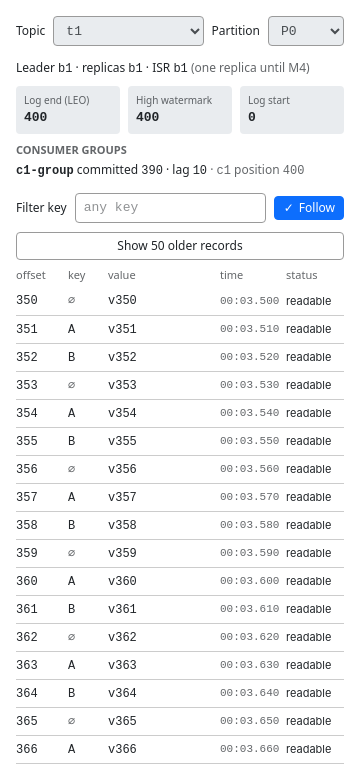
it: <PartitionLog> › long logs: the newest page, then "Show older"; offsets beyond the snapshot are named
This screenshot has width=361, height=767.
Click the button "Show 50 older records" at (180, 246), box [16,232,344,260]
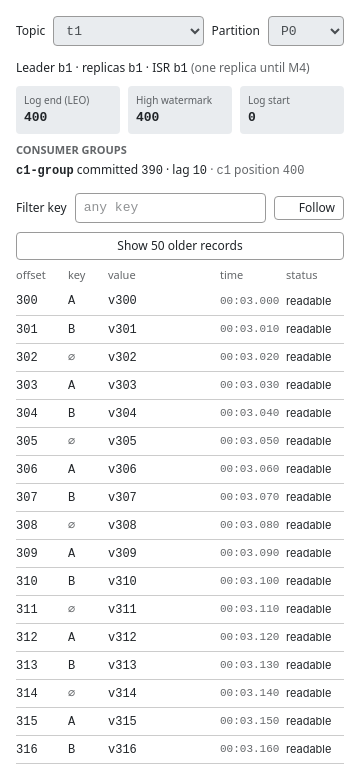
Click the button "Show 50 older records" at (180, 246), box [16,232,344,260]
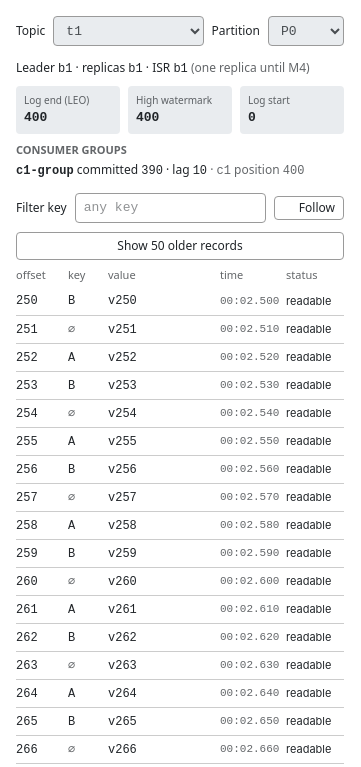
Click the button "Show 50 older records" at (180, 246), box [16,232,344,260]
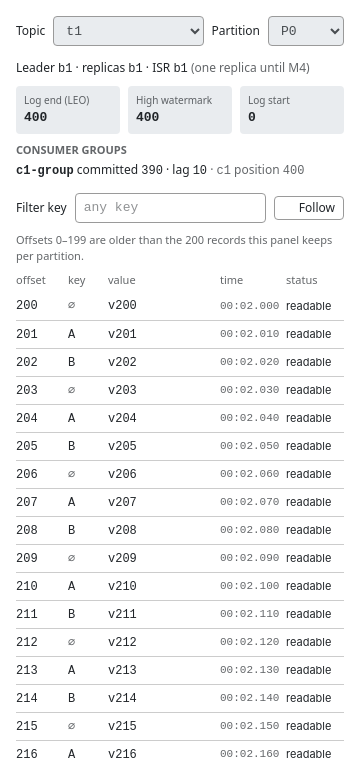
Check: the button "older records" is gone
